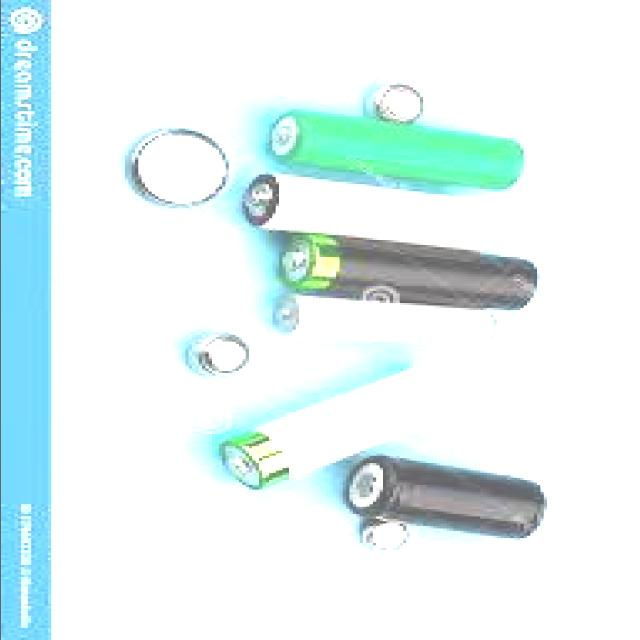AA: (212, 361, 472, 496), (260, 106, 528, 195), (271, 232, 541, 314), (235, 170, 500, 252)
AAA: (262, 296, 496, 349)
COIN: (120, 125, 231, 211), (177, 330, 252, 380)
